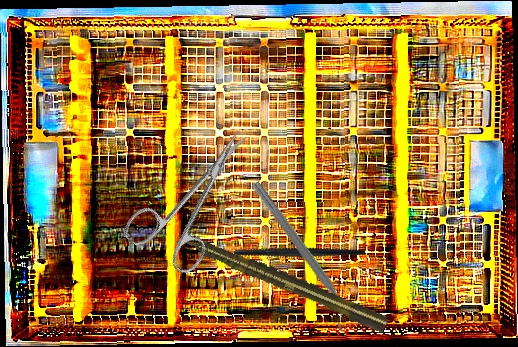Chopper: (208, 199, 367, 312)
Fixation Ring: (238, 177, 367, 337)
Handpiece: (173, 227, 390, 335)
Iris Scissors: (119, 110, 278, 283)
